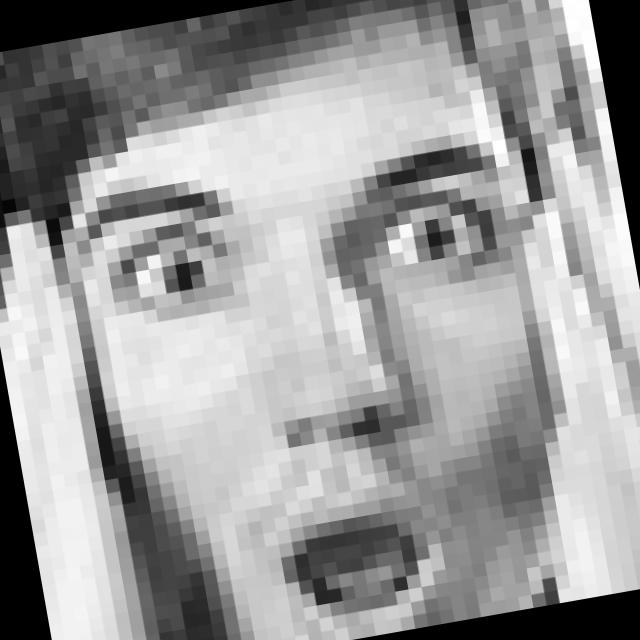surprise: (64, 119, 577, 640)
